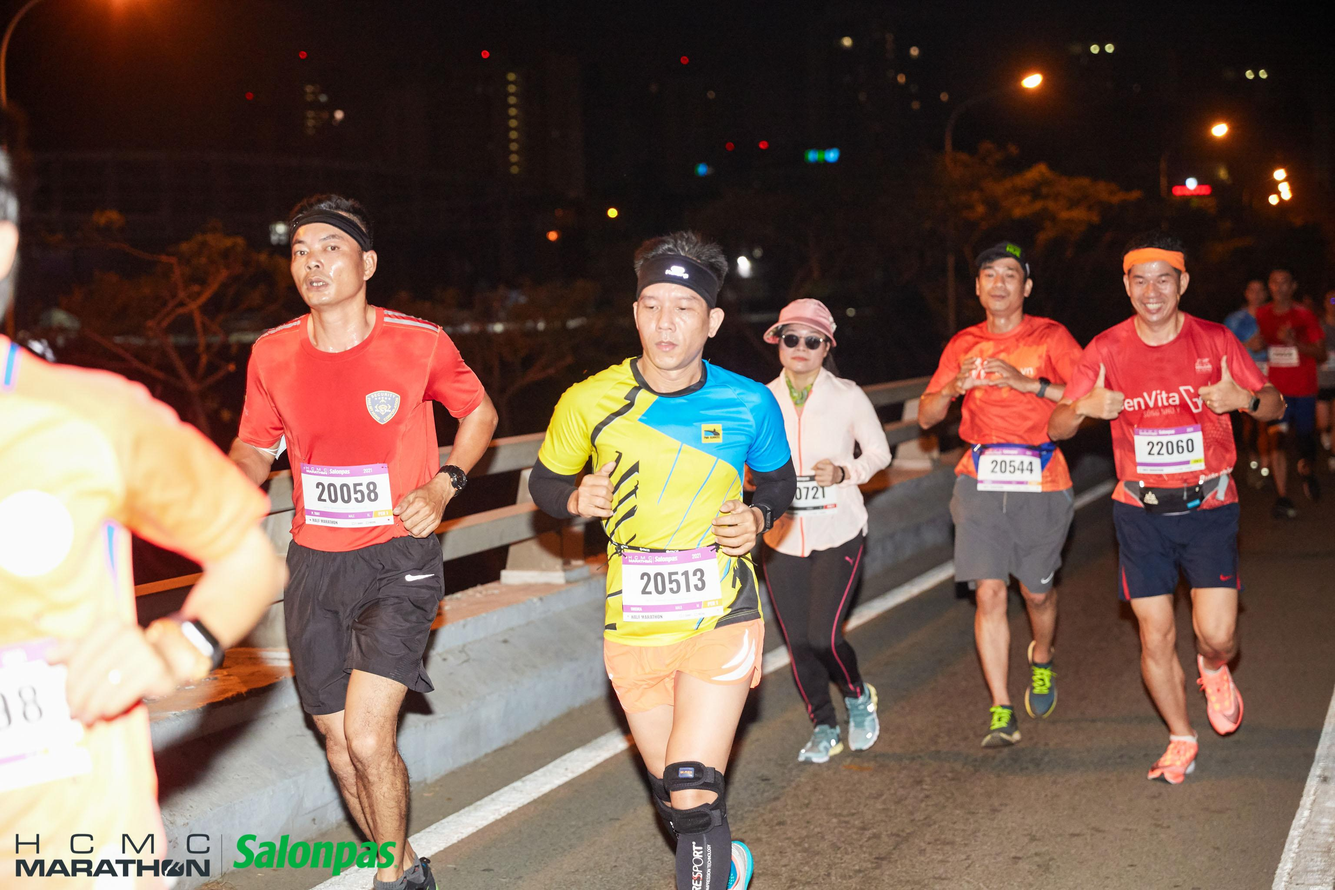bib: (0, 643, 80, 784), (618, 544, 723, 618), (300, 459, 394, 532), (1134, 425, 1206, 470), (974, 444, 1041, 492), (789, 473, 833, 508), (1269, 347, 1302, 367)
